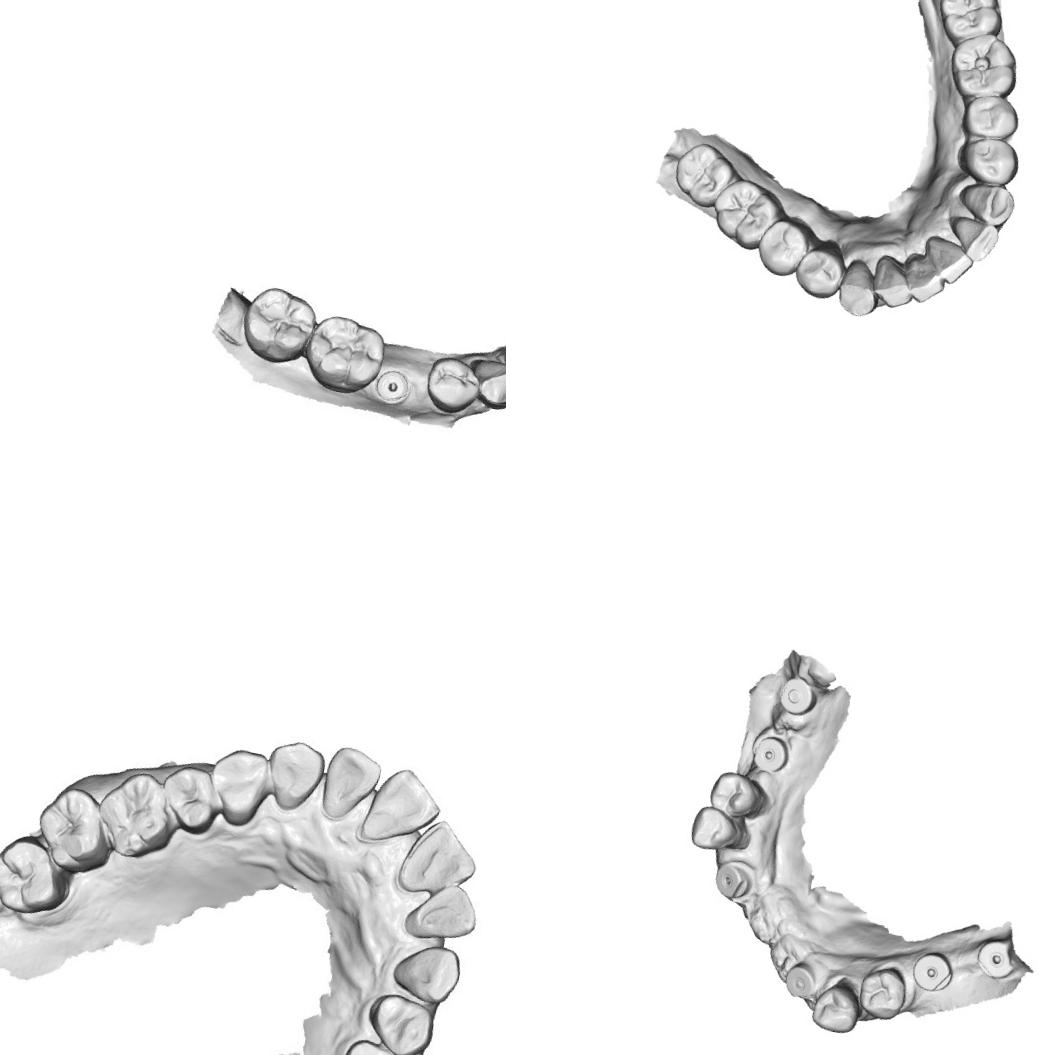canine: (258, 732, 332, 818), (388, 938, 468, 1007), (687, 802, 754, 856), (832, 256, 885, 320), (954, 177, 1018, 228), (806, 980, 864, 1036), (460, 351, 506, 412)
implant: (972, 933, 1021, 983), (908, 947, 956, 995), (774, 672, 821, 718), (710, 858, 754, 902), (750, 731, 793, 775), (780, 958, 820, 1002), (371, 367, 413, 408)
incisor: (392, 813, 488, 904), (358, 760, 442, 849), (398, 874, 484, 950), (317, 740, 385, 829), (918, 232, 977, 287), (942, 212, 1001, 266), (867, 252, 919, 312), (898, 250, 950, 306)
molar: (87, 760, 182, 870), (29, 780, 117, 877), (300, 303, 388, 398), (237, 282, 320, 368), (0, 830, 73, 927), (705, 173, 789, 256), (942, 27, 1024, 110), (668, 137, 746, 213), (931, 0, 1008, 52)
premolar: (206, 744, 271, 826), (362, 990, 438, 1055), (160, 761, 226, 835), (751, 212, 815, 280), (421, 352, 484, 420), (790, 235, 849, 302), (954, 131, 1022, 189), (958, 90, 1023, 144), (706, 766, 768, 822), (854, 962, 910, 1024), (333, 1035, 410, 1055)
